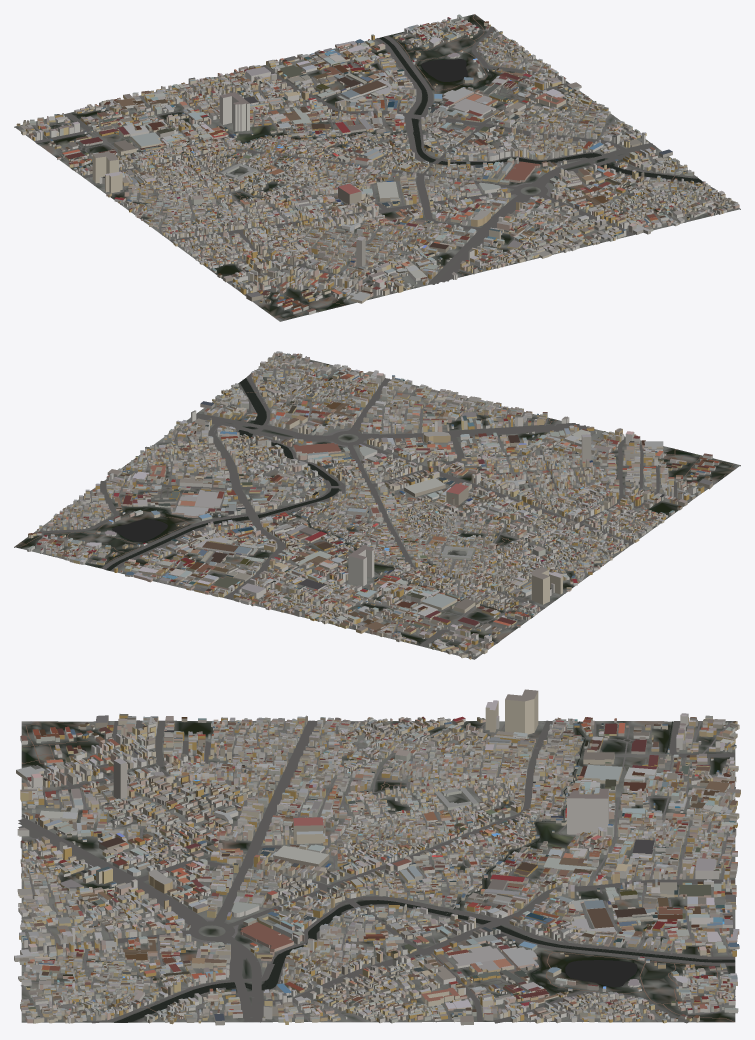
The picture shows the model from 3 angles, top to bottom: view 1: azimuth 30°, elevation 25°; view 2: azimuth 150°, elevation 25°; view 3: azimuth 270°, elevation 25°; orthographic projection. The views are drawn at different scales.
Visible parts, largest first — view 1: buildings, ground, roads, water; view 2: buildings, ground, roads, water; view 3: buildings, ground, roads, water.
Part boxes in pixels (x1,y1,x2,y2): buildings: [16, 14, 739, 314]; ground: [14, 14, 740, 321]; roads: [15, 14, 738, 320]; water: [37, 37, 702, 183]; buildings: [27, 351, 719, 659]; ground: [14, 353, 740, 659]; roads: [14, 356, 737, 659]; water: [106, 378, 532, 642]; buildings: [14, 689, 740, 1025]; ground: [21, 720, 735, 1022]; roads: [18, 720, 735, 1023]; water: [114, 721, 735, 1022].
Size of the model in its own units: 1419 by 83.87 by 1427.
